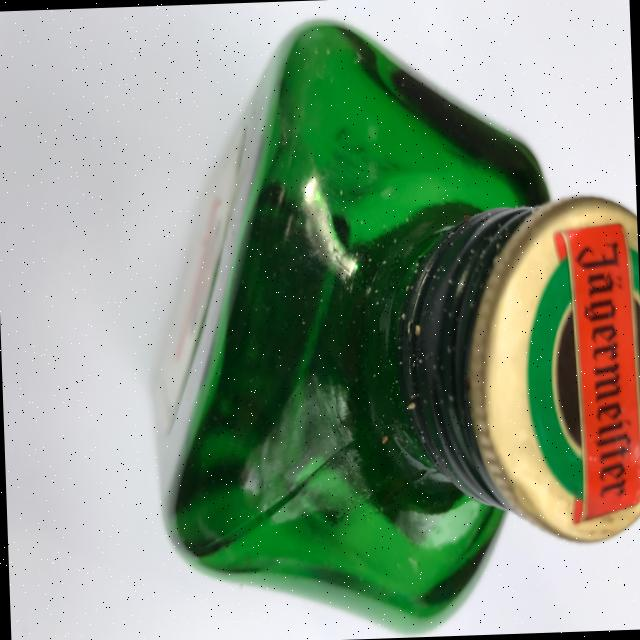glass: (138, 6, 640, 640)
